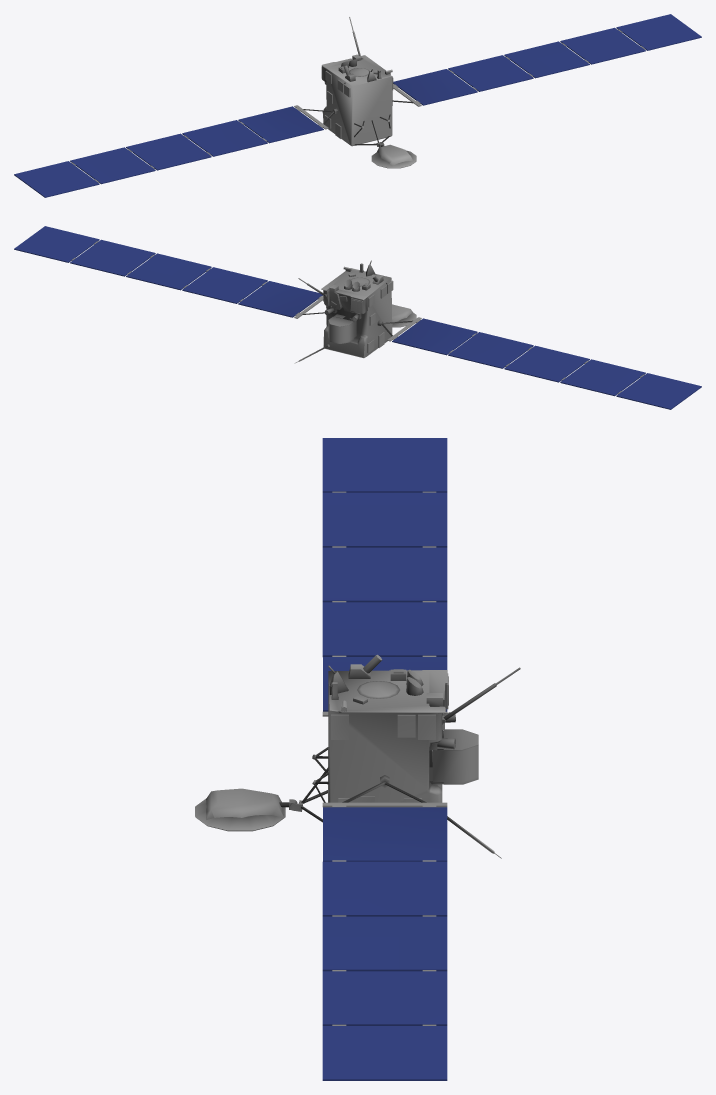
File: space-satellites-satellite_v9.fbx
The picture shows the model from 3 angles, top to bottom: view 1: azimuth 30°, elevation 25°; view 2: azimuth 150°, elevation 25°; view 3: azimuth 270°, elevation 25°; orthographic projection. The views are drawn at different scales.
Visible parts, largest first — view 1: Satellite_v9; view 2: Satellite_v9; view 3: Satellite_v9.
Part boxes in pixels (x1=…): Satellite_v9: x1=14, y1=14, x2=701, y2=197; Satellite_v9: x1=14, y1=226, x2=701, y2=409; Satellite_v9: x1=195, y1=438, x2=520, y2=1080.
Size of the model in its own units: 8 by 1.06 by 1.72.
